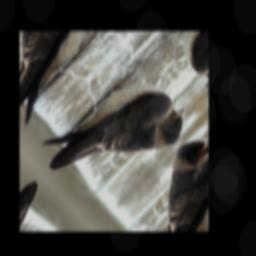Swallow: (33, 48, 197, 222)
